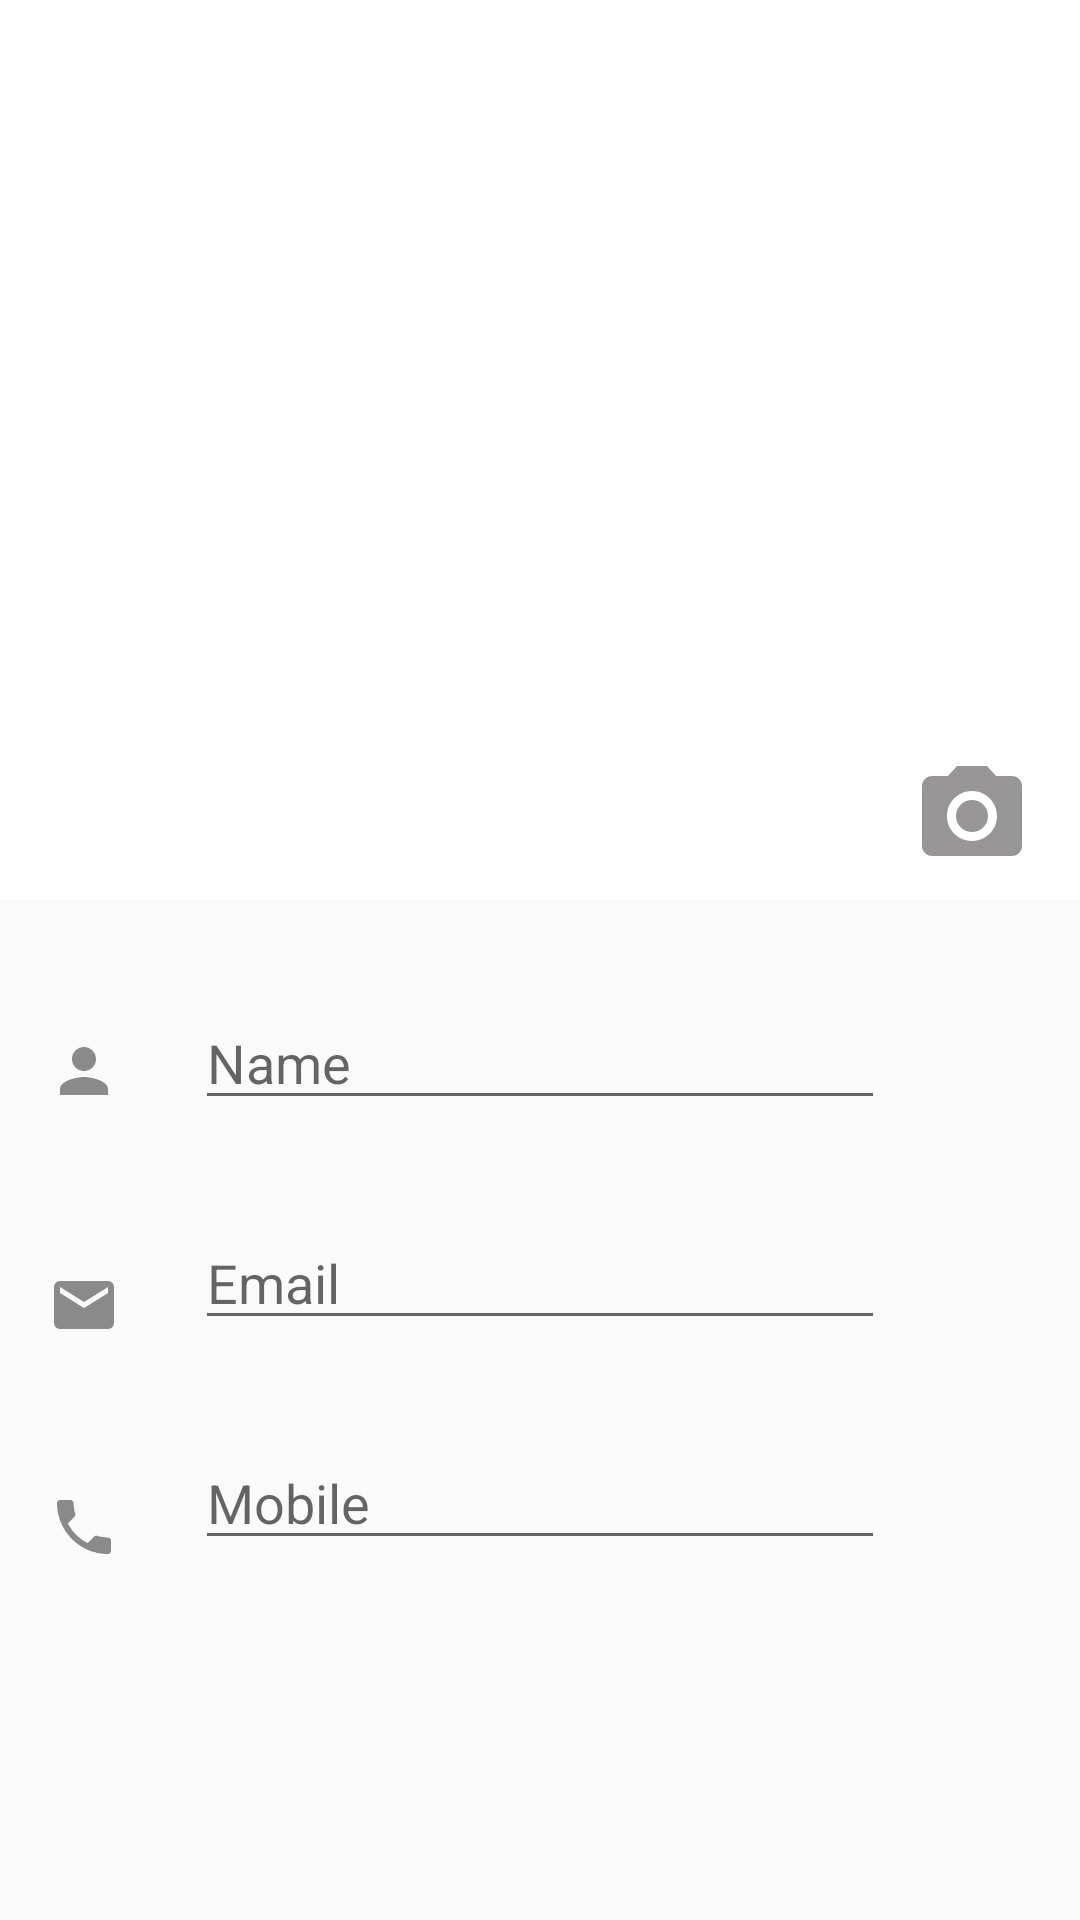

Where icons sit on this 1080px x 1920px app screen, as Rect(x1, y1, x2, y2):
camera: Rect(922, 766, 1022, 856)
person: Rect(60, 1047, 108, 1095)
phone: Rect(57, 1500, 111, 1554)
